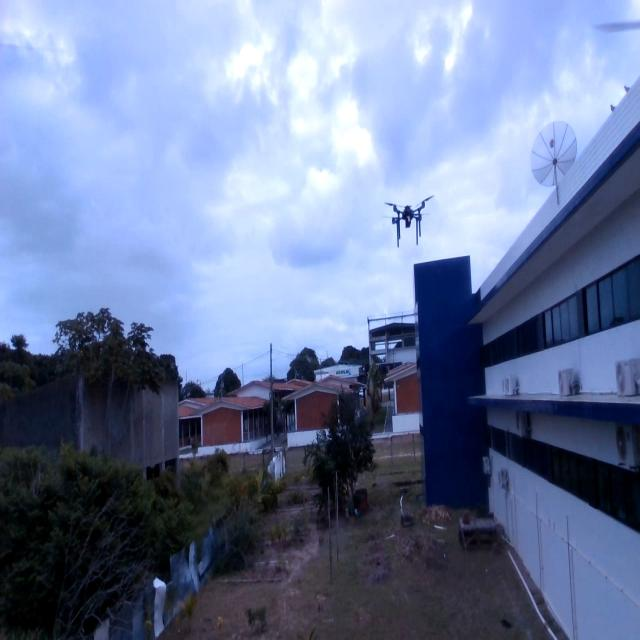-uav-: (378, 187, 438, 246)
